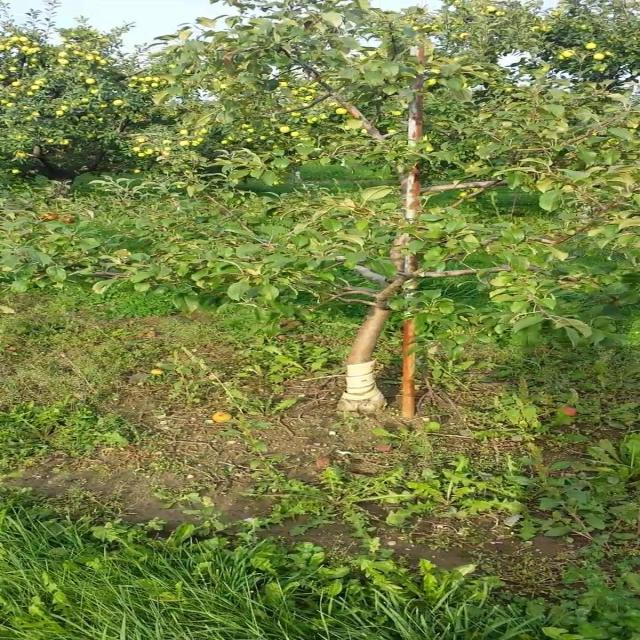apple: (63, 216, 78, 224), (42, 216, 57, 221)
